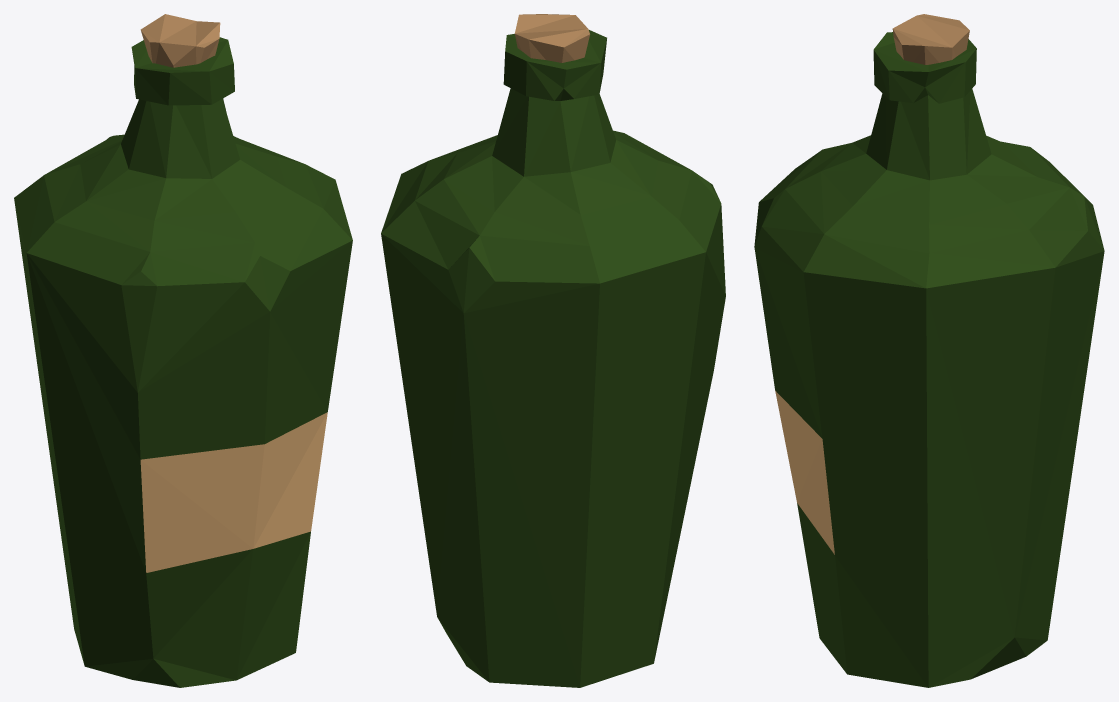
File: AWS_Potion_Green_019.fbx
3 views of the same model, side by side, from view 1: azimuth 30°, elevation 25°; view 2: azimuth 150°, elevation 25°; view 3: azimuth 270°, elevation 25° (orthographic).
Visible parts, largest first — view 1: AWS_Potion_Green_019; view 2: AWS_Potion_Green_019; view 3: AWS_Potion_Green_019.
Boxes of the visible parts, x1=… form: AWS_Potion_Green_019: x1=14, y1=14, x2=352, y2=687; AWS_Potion_Green_019: x1=381, y1=14, x2=725, y2=687; AWS_Potion_Green_019: x1=754, y1=14, x2=1104, y2=687.
Size of the model in its own units: 9.8 by 18.77 by 9.73.
